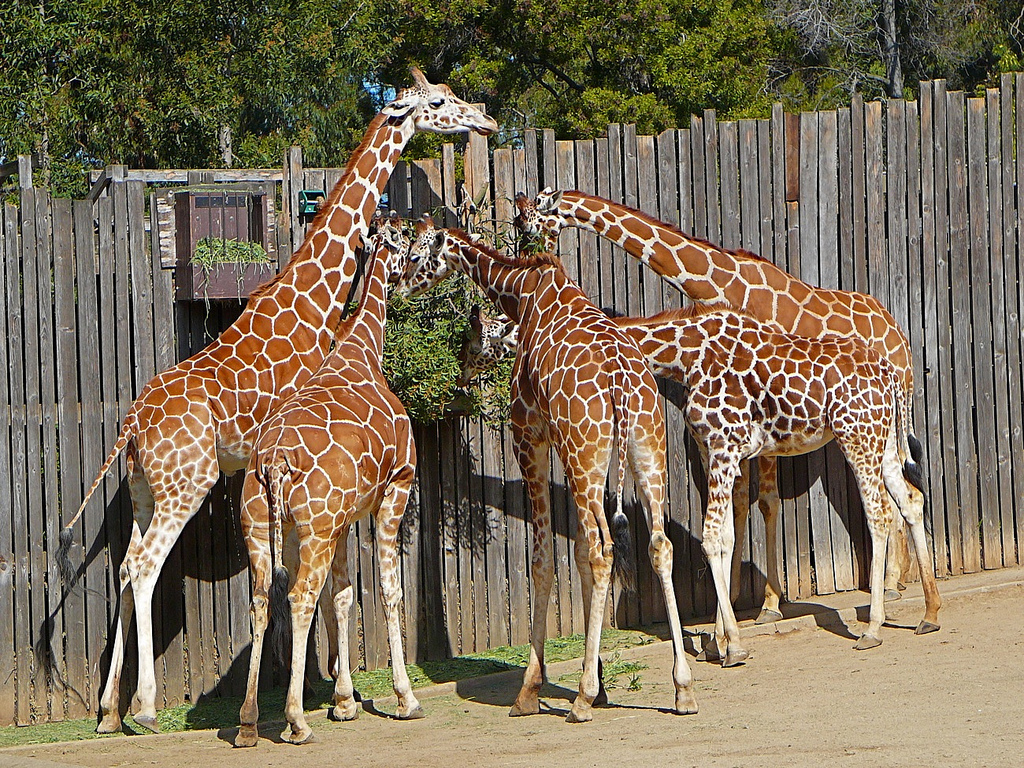giraffe: (94, 49, 456, 638), (396, 212, 683, 730), (601, 300, 931, 673), (249, 185, 441, 720), (509, 170, 937, 403)
